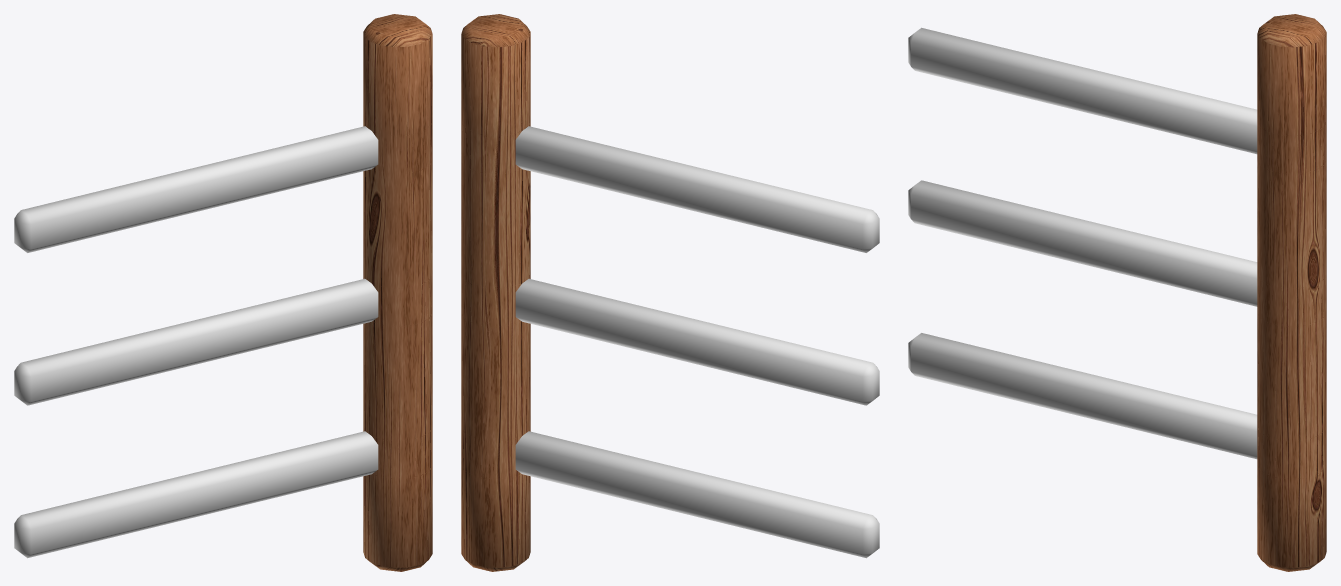
The model's file is GreenFence.fbx.
3 renders of one model, left to right at view 1: azimuth 30°, elevation 25°; view 2: azimuth 150°, elevation 25°; view 3: azimuth 330°, elevation 25°, orthographic.
Visible parts, largest first — view 1: FenceDet; view 2: FenceDet; view 3: FenceDet.
Part boxes in pixels (x1,y1,x2,y2): FenceDet: [14, 14, 432, 571]; FenceDet: [461, 14, 879, 571]; FenceDet: [908, 14, 1326, 571].
Bounding box in the file's own units: 1.28 × 1.6 × 0.1848.
